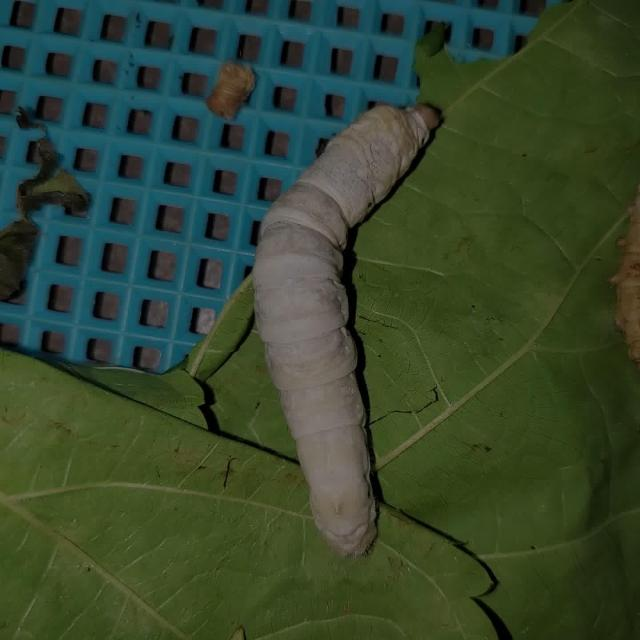Grasserie: (226, 82, 464, 568)
